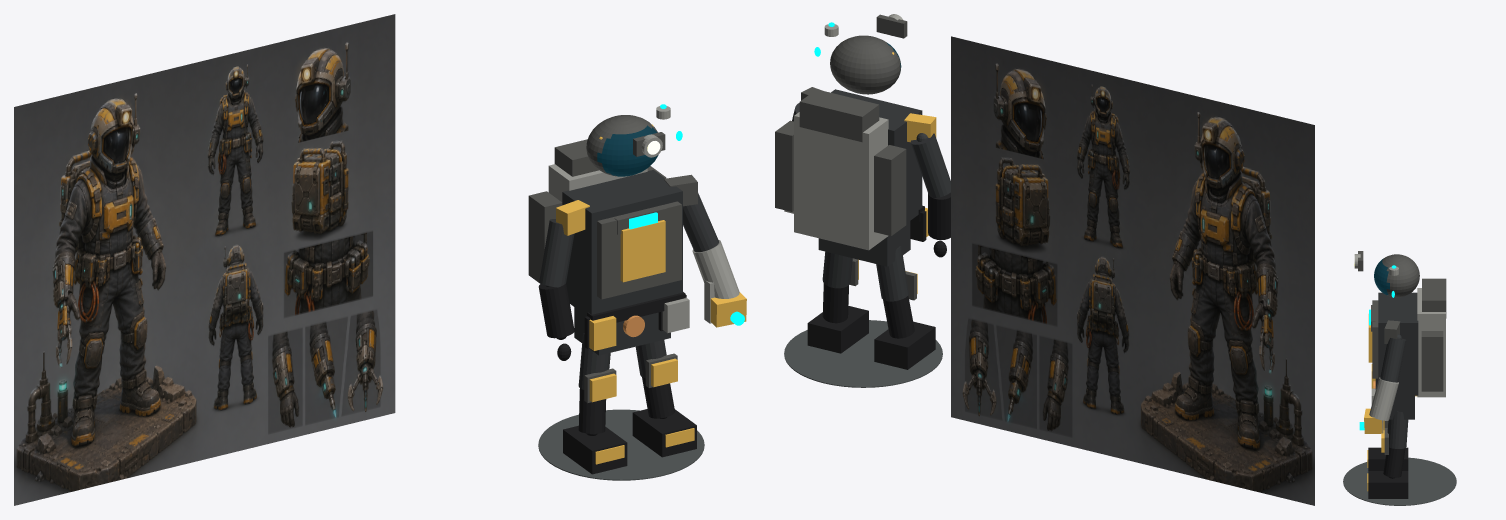
The model's file is player_engineer.glb.
3 renders of one model, left to right at view 1: azimuth 30°, elevation 25°; view 2: azimuth 150°, elevation 25°; view 3: azimuth 270°, elevation 25°, orthographic. The views are drawn at different scales.
Visible parts, largest first — view 1: Reference_Generated_Concept_Image_Not_Exported, PE_Torso_Soft_Suit, PE_Source_Footprint_Size_Guide, PE_Chest_Harness_Dark_Frame, PE_Helmet_Rounded_Shell, PE_Chest_Safety_Plate_Center, PE_Left_Heavy_Boot, PE_Right_Heavy_Boot, PE_Backpack_Left_Side_Module, PE_Left_Upper_Arm_Suit_Shaft, PE_Right_Forearm_Tool_Mount_Shaft, PE_Pelvis_Soft_Suit (+11 smaller); view 2: Reference_Generated_Concept_Image_Not_Exported, PE_Backpack_Main_Box, PE_Source_Footprint_Size_Guide, PE_Helmet_Rounded_Shell, PE_Backpack_Rolltop, PE_Backpack_Left_Side_Module, PE_Torso_Soft_Suit, PE_Left_Heavy_Boot, PE_Right_Heavy_Boot, PE_Pelvis_Soft_Suit, PE_Backpack_Right_Side_Module, PE_Left_Upper_Arm_Suit_Shaft (+6 smaller); view 3: PE_Torso_Soft_Suit, PE_Source_Footprint_Size_Guide, PE_Helmet_Rounded_Shell, PE_Backpack_Right_Side_Module, PE_Backpack_Main_Box, PE_Right_Heavy_Boot, PE_Backpack_Rolltop, PE_Right_Forearm_Tool_Mount_Shaft, PE_Right_Upper_Arm_Suit_Shaft, PE_Right_Thigh_Suit_Shaft, PE_Right_Lower_Leg_Dark_Shaft, PE_Left_Heavy_Boot (+5 smaller).
Boxes of the visible parts, x1=… form: Reference_Generated_Concept_Image_Not_Exported: x1=14, y1=14, x2=395, y2=505; PE_Torso_Soft_Suit: x1=562, y1=170, x2=682, y2=315; PE_Source_Footprint_Size_Guide: x1=538, y1=409, x2=704, y2=480; PE_Chest_Harness_Dark_Frame: x1=597, y1=201, x2=681, y2=299; PE_Helmet_Rounded_Shell: x1=586, y1=115, x2=658, y2=176; PE_Chest_Safety_Plate_Center: x1=620, y1=220, x2=665, y2=282; PE_Left_Heavy_Boot: x1=563, y1=425, x2=627, y2=474; PE_Right_Heavy_Boot: x1=632, y1=409, x2=696, y2=457; PE_Backpack_Left_Side_Module: x1=528, y1=191, x2=562, y2=283; PE_Left_Upper_Arm_Suit_Shaft: x1=539, y1=219, x2=574, y2=287; PE_Right_Forearm_Tool_Mount_Shaft: x1=692, y1=240, x2=739, y2=298; PE_Pelvis_Soft_Suit: x1=574, y1=307, x2=670, y2=355; Reference_Generated_Concept_Image_Not_Exported: x1=951, y1=36, x2=1314, y2=505; PE_Backpack_Main_Box: x1=794, y1=112, x2=888, y2=250; PE_Source_Footprint_Size_Guide: x1=784, y1=320, x2=942, y2=387; PE_Helmet_Rounded_Shell: x1=830, y1=35, x2=901, y2=94; PE_Backpack_Rolltop: x1=799, y1=89, x2=879, y2=142; PE_Backpack_Left_Side_Module: x1=874, y1=145, x2=906, y2=235; PE_Torso_Soft_Suit: x1=831, y1=89, x2=922, y2=223; PE_Left_Heavy_Boot: x1=874, y1=321, x2=935, y2=369; PE_Right_Heavy_Boot: x1=807, y1=306, x2=868, y2=353; PE_Pelvis_Soft_Suit: x1=818, y1=221, x2=910, y2=266; PE_Backpack_Right_Side_Module: x1=775, y1=120, x2=793, y2=211; PE_Left_Upper_Arm_Suit_Shaft: x1=910, y1=133, x2=950, y2=197; PE_Torso_Soft_Suit: x1=1378, y1=292, x2=1418, y2=395; PE_Source_Footprint_Size_Guide: x1=1343, y1=457, x2=1456, y2=505; PE_Helmet_Rounded_Shell: x1=1374, y1=254, x2=1419, y2=297; PE_Backpack_Right_Side_Module: x1=1421, y1=331, x2=1443, y2=391; PE_Backpack_Main_Box: x1=1417, y1=288, x2=1445, y2=397; PE_Right_Heavy_Boot: x1=1368, y1=471, x2=1408, y2=498; PE_Backpack_Rolltop: x1=1422, y1=278, x2=1446, y2=318; PE_Right_Forearm_Tool_Mount_Shaft: x1=1369, y1=377, x2=1398, y2=420; PE_Right_Upper_Arm_Suit_Shaft: x1=1380, y1=338, x2=1406, y2=382; PE_Right_Thigh_Suit_Shaft: x1=1387, y1=411, x2=1408, y2=448; PE_Right_Lower_Leg_Dark_Shaft: x1=1383, y1=447, x2=1405, y2=477; PE_Left_Heavy_Boot: x1=1368, y1=447, x2=1408, y2=470.
Bounding box in the file's own units: 3.03 × 1.9 × 0.89.
11 materials, 1 textured.
